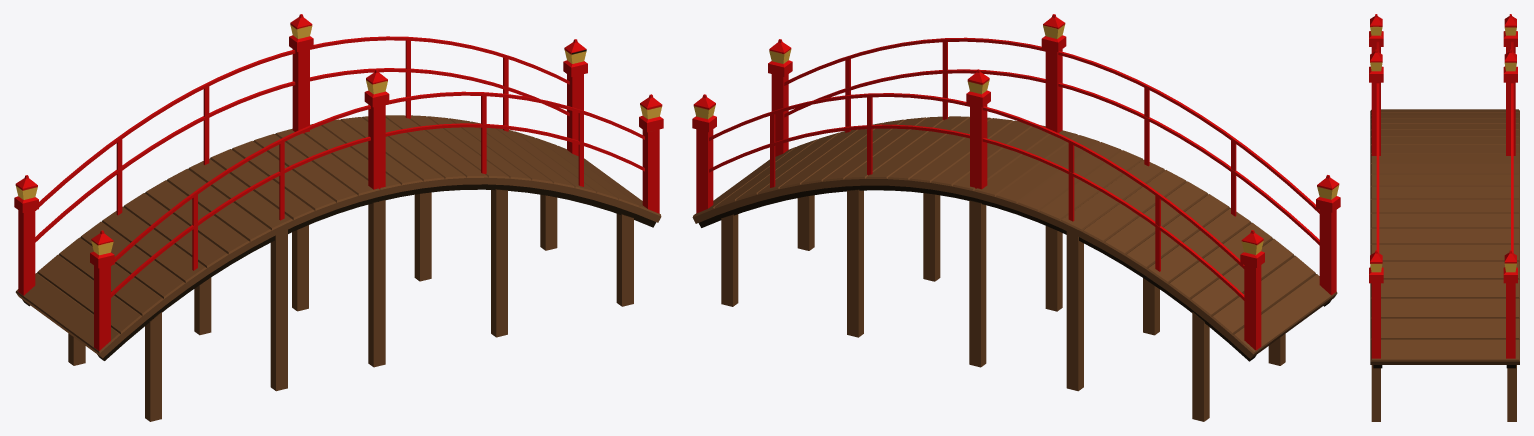
Rendered from BLD0410001.FBX.
3 views of the same model, side by side, from view 1: azimuth 30°, elevation 25°; view 2: azimuth 150°, elevation 25°; view 3: azimuth 270°, elevation 25° (orthographic). The views are drawn at different scales.
Parts seen in each view (by area): view 1: smBLD0410001; view 2: smBLD0410001; view 3: smBLD0410001.
Boxes of the visible parts, x1,y1,x2,y2 form: smBLD0410001: (14, 14, 663, 421); smBLD0410001: (692, 14, 1340, 421); smBLD0410001: (1369, 14, 1519, 421).
Bounding box in the file's own units: 278 × 138 × 72.31.
Materials: 1 (1 with a texture image).
